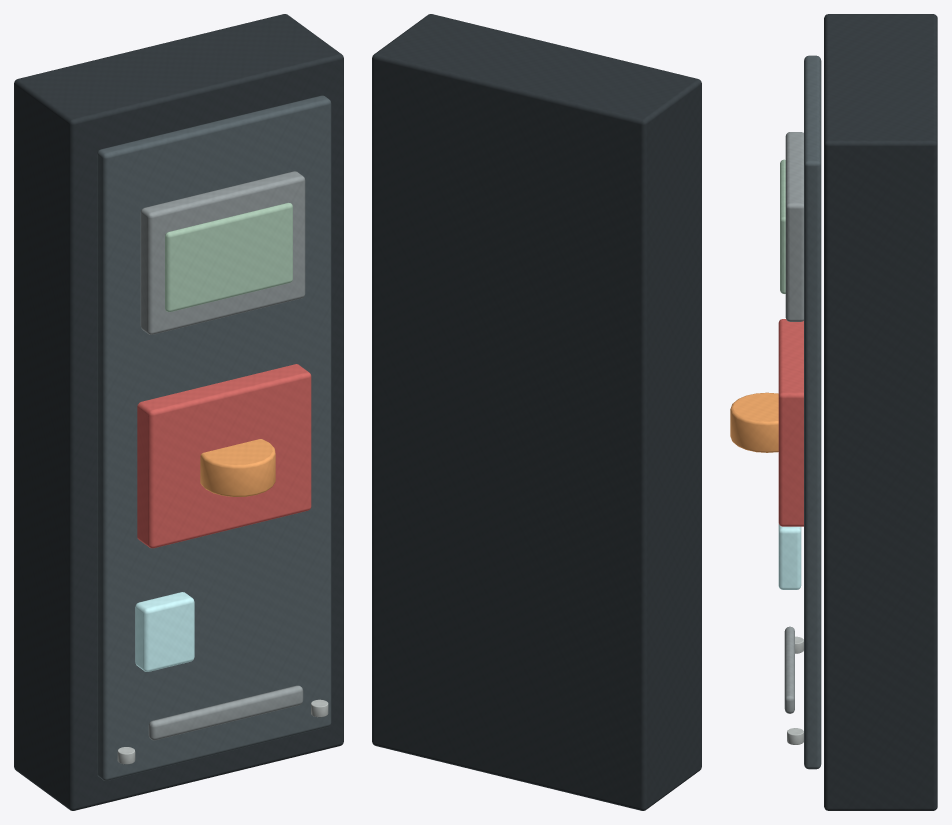
File: BlastDoorControl.glb
3 views of the same model, side by side, from view 1: azimuth 30°, elevation 25°; view 2: azimuth 150°, elevation 25°; view 3: azimuth 270°, elevation 25° (orthographic). The views are drawn at different scales.
Parts seen in each view (by area): view 1: BlastDoorControl_Mesh; view 2: BlastDoorControl_Mesh; view 3: BlastDoorControl_Mesh.
Part boxes in pixels (x1,y1,x2,y2): BlastDoorControl_Mesh: [14, 14, 343, 810]; BlastDoorControl_Mesh: [372, 14, 701, 810]; BlastDoorControl_Mesh: [730, 14, 937, 810].
Size of the model in its own units: 0.54 by 1.3 by 0.365.
8 materials, 8 textured.
